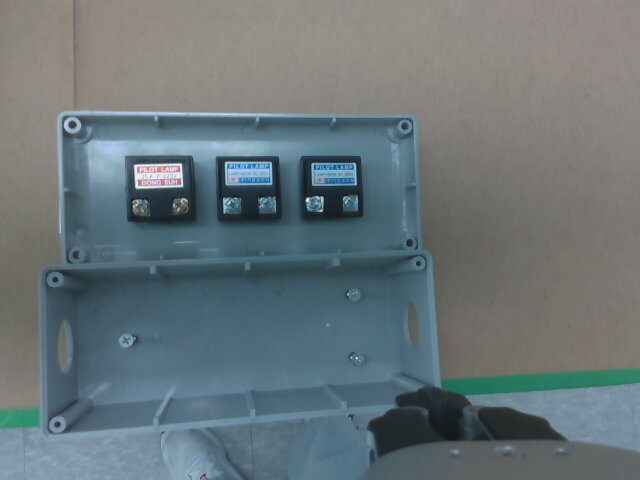L1(1): (131, 200, 149, 215)
L1(2): (171, 198, 188, 213)
L2(1): (222, 197, 240, 214)
L2(2): (257, 196, 276, 213)
L3(1): (306, 196, 323, 212)
L3(2): (342, 194, 358, 209)
